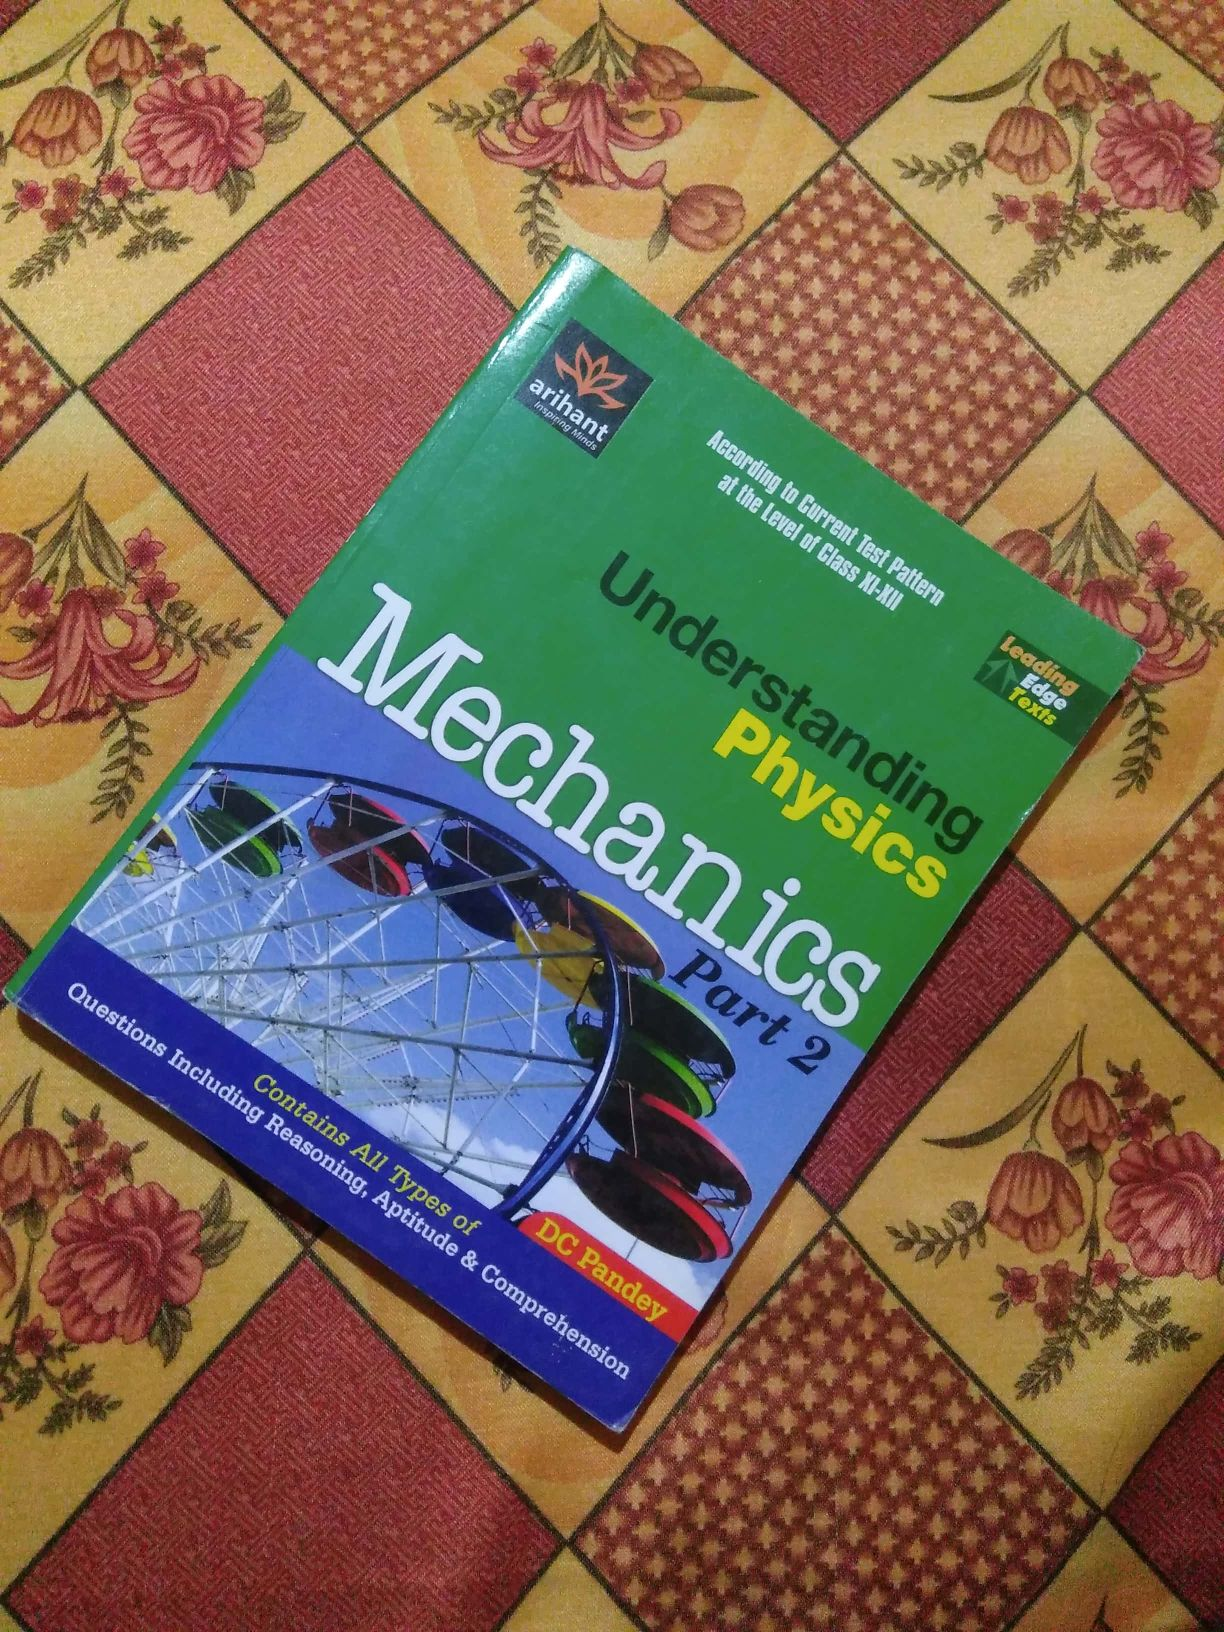mechanics: (41, 251, 1170, 1470)
